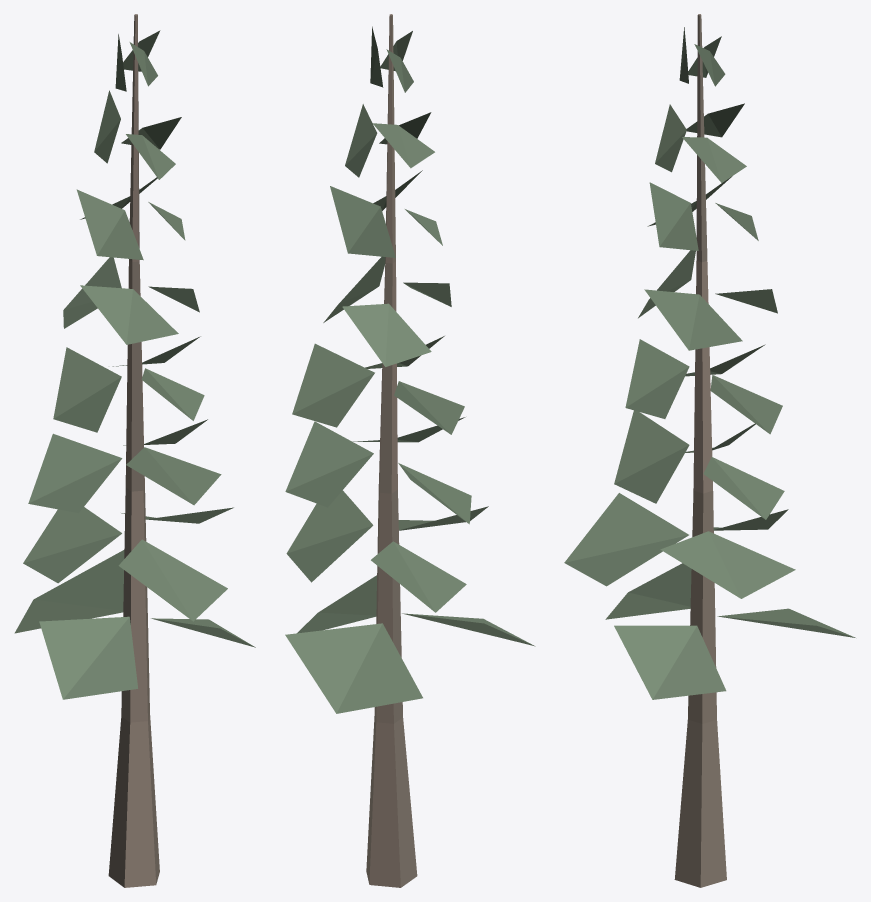
The model's file is pine_tree_001_a_LOD3.gltf.
The picture shows the model from 3 angles, left to right: view 1: azimuth 30°, elevation 25°; view 2: azimuth 150°, elevation 25°; view 3: azimuth 270°, elevation 25°; orthographic projection.
Parts seen in each view (by area): view 1: pine_tree_001_a_LOD3; view 2: pine_tree_001_a_LOD3; view 3: pine_tree_001_a_LOD3.
Boxes of the visible parts, x1=… form: pine_tree_001_a_LOD3: x1=14, y1=14, x2=255, y2=887; pine_tree_001_a_LOD3: x1=285, y1=14, x2=535, y2=887; pine_tree_001_a_LOD3: x1=564, y1=14, x2=855, y2=887.
Size of the model in its own units: 5.65 by 22.64 by 6.97.
